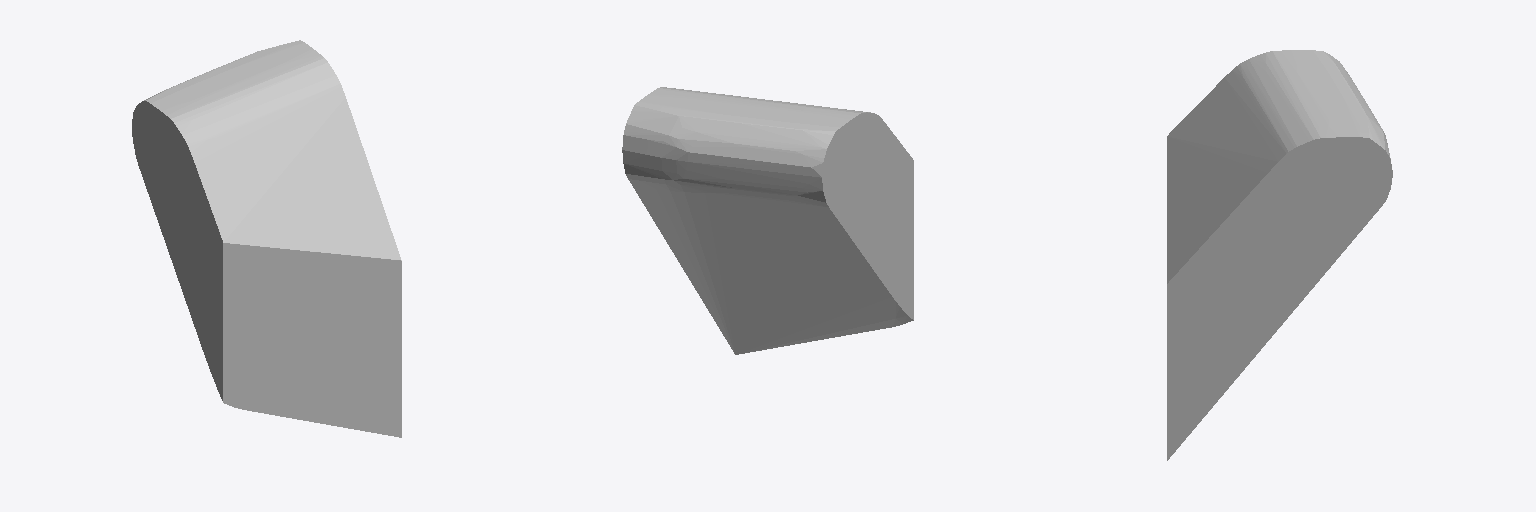
File: Bowl_21_collision_16.obj
The picture shows the model from 3 angles: view 1: azimuth 30°, elevation 25°; view 2: azimuth 150°, elevation 25°; view 3: azimuth 270°, elevation 25°; orthographic projection.
Bounding box in the file's own units: 0.0323 × 0.0562 × 0.0355.